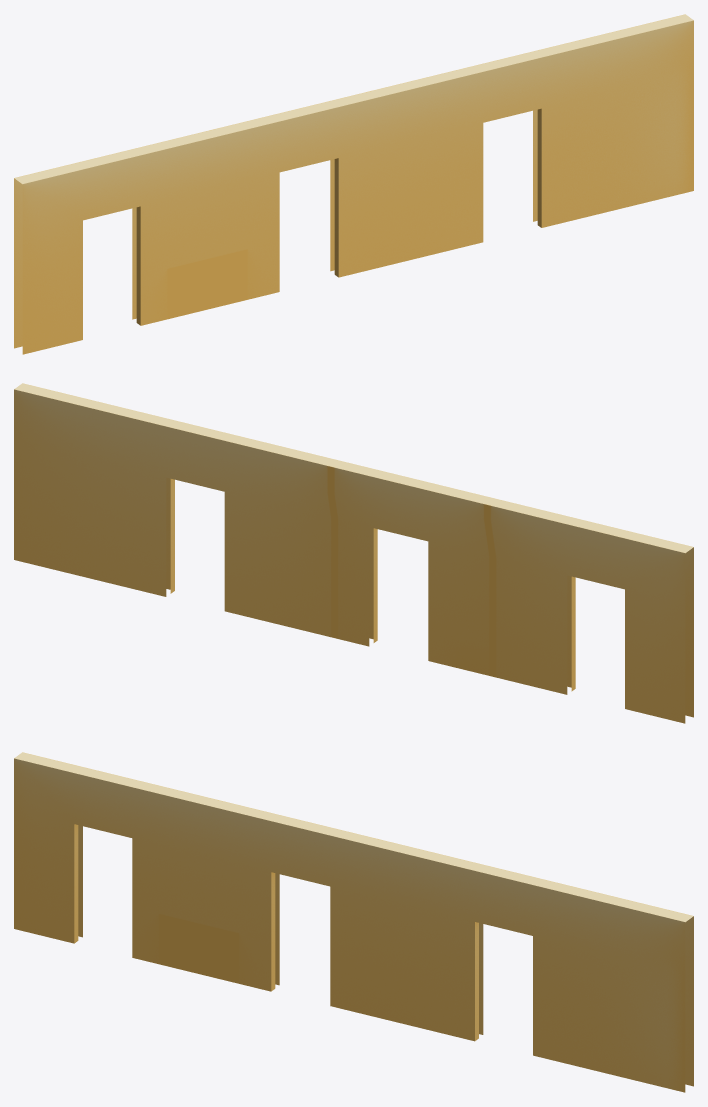
File: wallinside_Short.fbx
The picture shows the model from 3 angles, top to bottom: view 1: azimuth 30°, elevation 25°; view 2: azimuth 150°, elevation 25°; view 3: azimuth 330°, elevation 25°; orthographic projection.
Parts seen in each view (by area): view 1: pCube6; view 2: pCube6; view 3: pCube6.
Part boxes in pixels (x1,y1,x2,y2): pCube6: (14,14,693,354); pCube6: (14,383,693,723); pCube6: (14,752,693,1092).
Size of the model in its own units: 16.12 by 3.91 by 0.3535.
